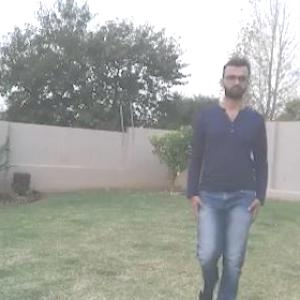follow: (190, 55, 266, 299)
